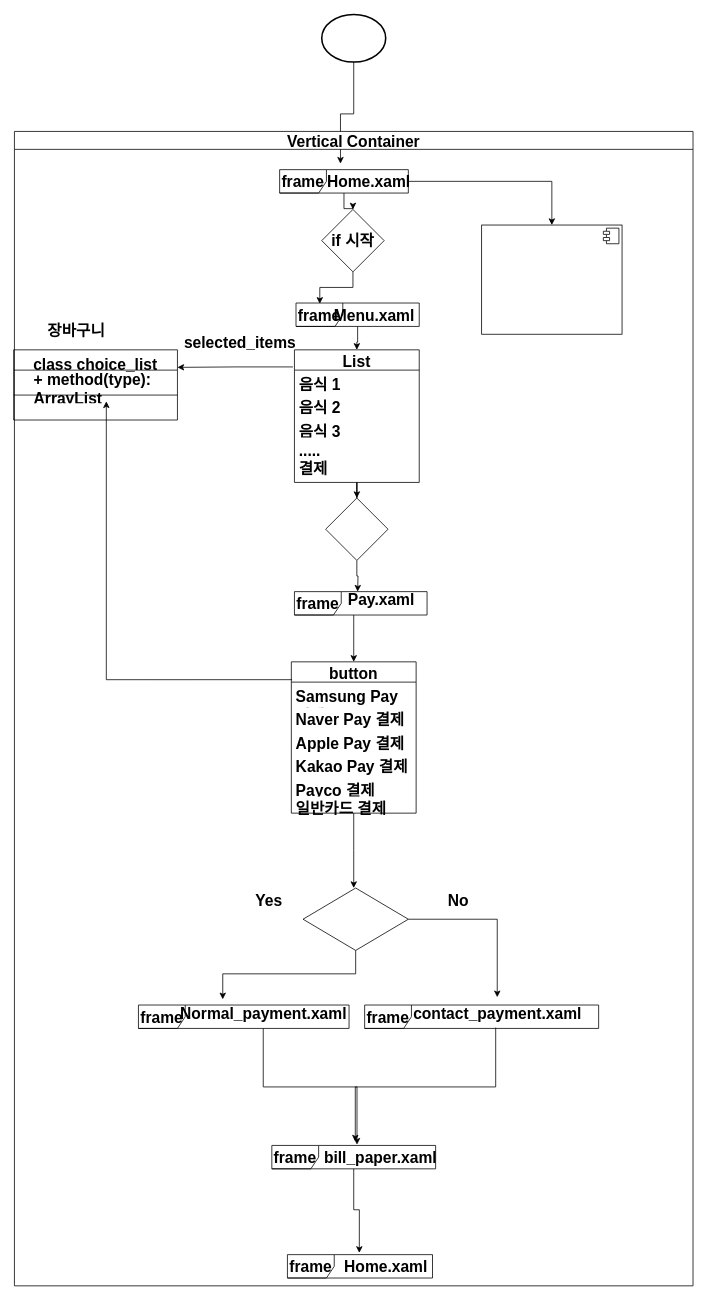
Image size: 707x1299. Some labels were removed from this diagram. Here are the shapes that lost their labels. From the top down, the centre of each, then its label:
the point at 353,37: 시작
the point at 551,279: Resource + 음식사진1 + 음식사진2 + 음식사진3 . .
the point at 356,528: if 결제
the point at 355,918: if 일반카드
